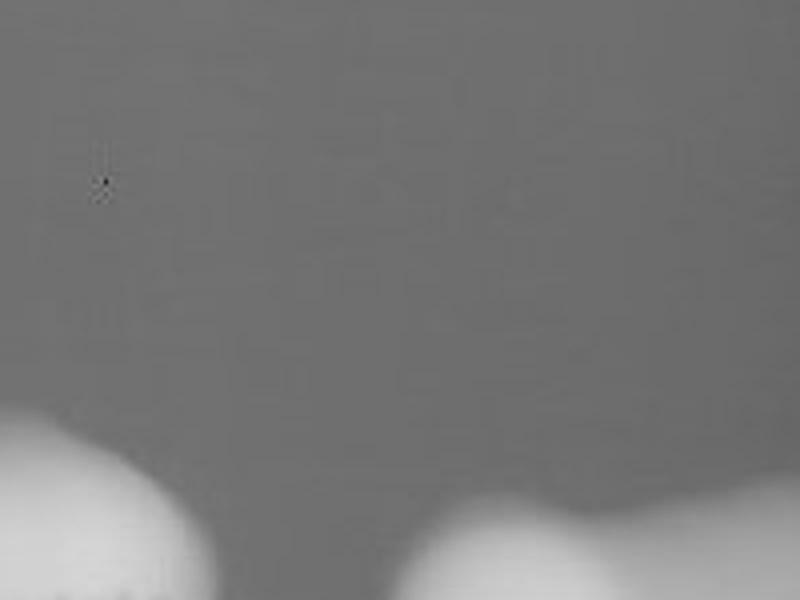defect: (98, 171, 114, 190)
